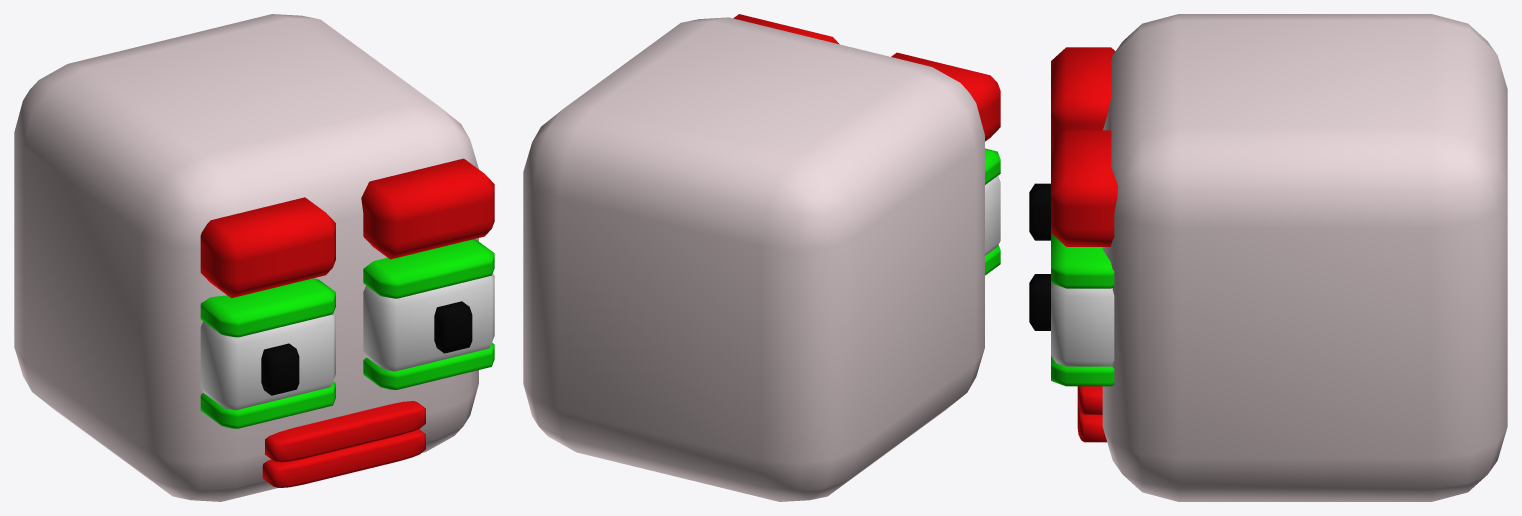
File: robot_head6.glb
The picture shows the model from 3 angles, left to right: view 1: azimuth 30°, elevation 25°; view 2: azimuth 150°, elevation 25°; view 3: azimuth 270°, elevation 25°; orthographic projection. The views are drawn at different scales.
Parts seen in each view (by area): view 1: robot_head; view 2: robot_head; view 3: robot_head.
Boxes of the visible parts, box(x1,y1,x2,y2) form: robot_head: box(14, 14, 494, 501); robot_head: box(523, 14, 1000, 501); robot_head: box(1029, 14, 1507, 501).
Bounding box in the file's own units: 0.8 × 0.8 × 0.9449.
